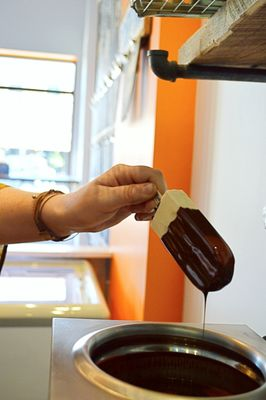pizza: (0, 162, 167, 245)
